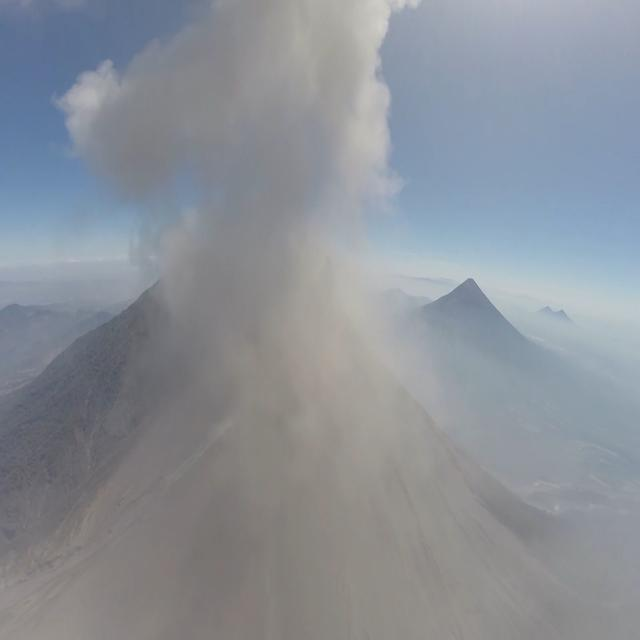Plume: (54, 0, 418, 512)
